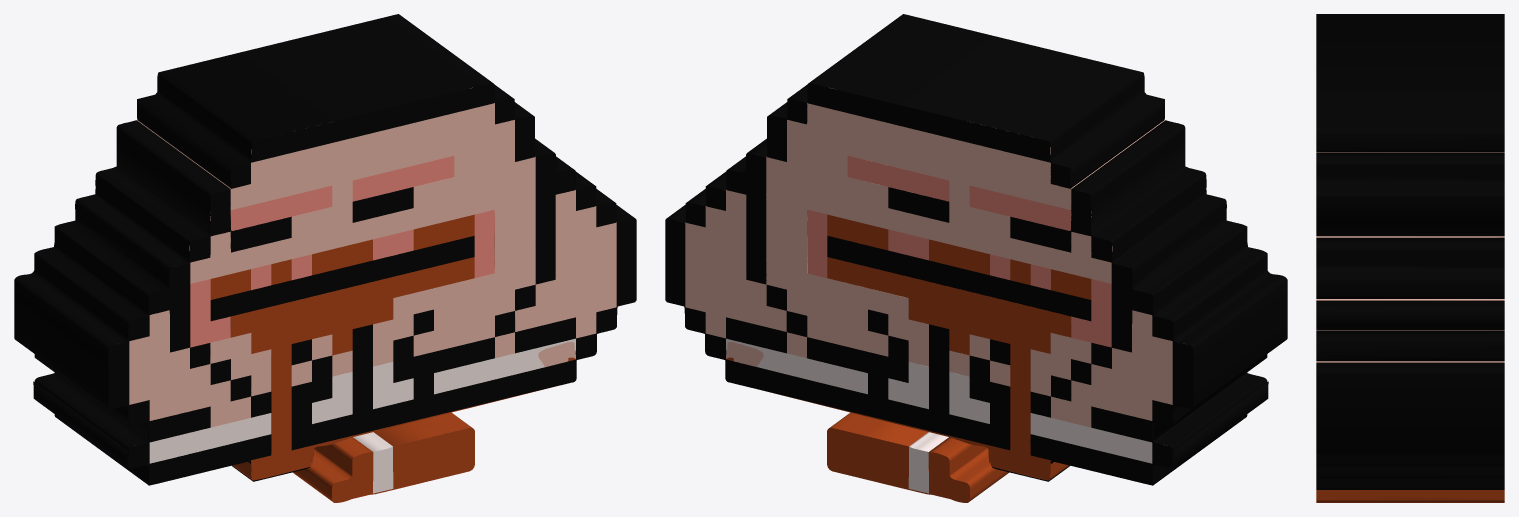
File: Toadz_6757.glb
3 views of the same model, side by side, from view 1: azimuth 30°, elevation 25°; view 2: azimuth 150°, elevation 25°; view 3: azimuth 270°, elevation 25° (orthographic).
Visible parts, largest first — view 1: Curve; view 2: Curve; view 3: Curve.
Part boxes in pixels (x1,y1,x2,y2): Curve: [14, 14, 636, 502]; Curve: [665, 14, 1287, 502]; Curve: [1316, 14, 1504, 502].
Size of the model in its own units: 3.24 by 2.24 by 1.
